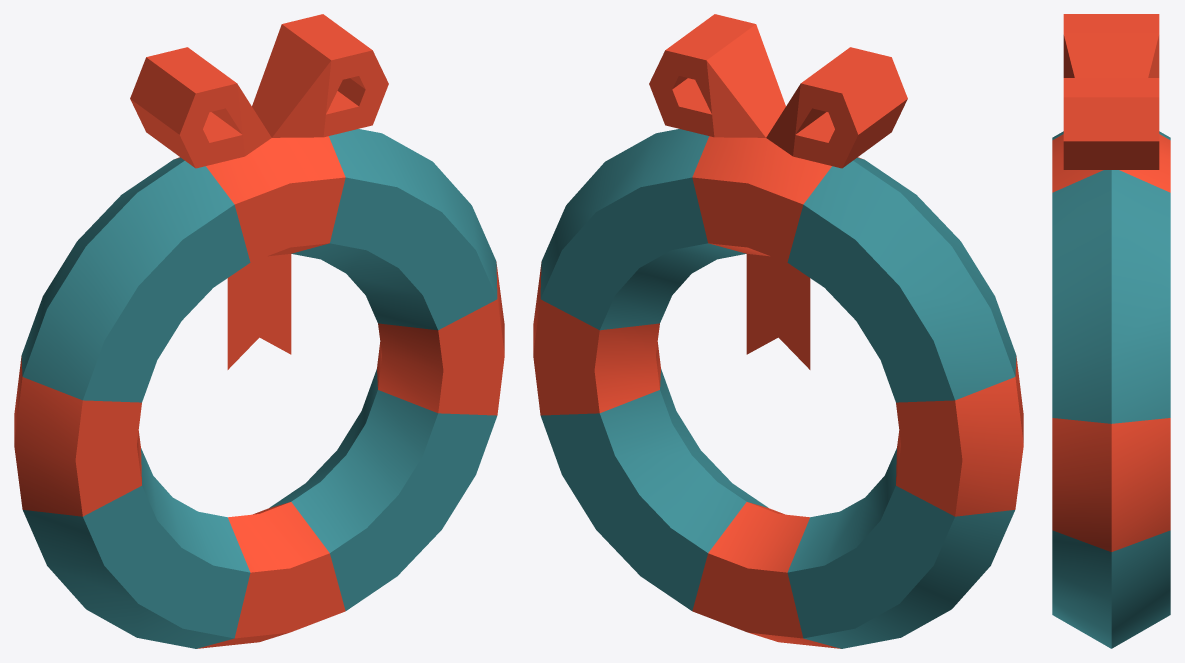
File: wreath.fbx
3 views of the same model, side by side, from view 1: azimuth 30°, elevation 25°; view 2: azimuth 150°, elevation 25°; view 3: azimuth 270°, elevation 25° (orthographic). The views are drawn at different scales.
Parts seen in each view (by area): view 1: wreath, Group 29; view 2: wreath, Group 29; view 3: wreath, Group 29.
Boxes of the visible parts, <box> form: wreath: <box>14,129,504,648</box>; Group 29: <box>130,14,388,168</box>; wreath: <box>533,129,1023,648</box>; Group 29: <box>649,14,907,168</box>; wreath: <box>1052,131,1170,648</box>; Group 29: <box>1063,14,1159,169</box>.
Size of the model in its own units: 5.54 by 6.35 by 1.2.
